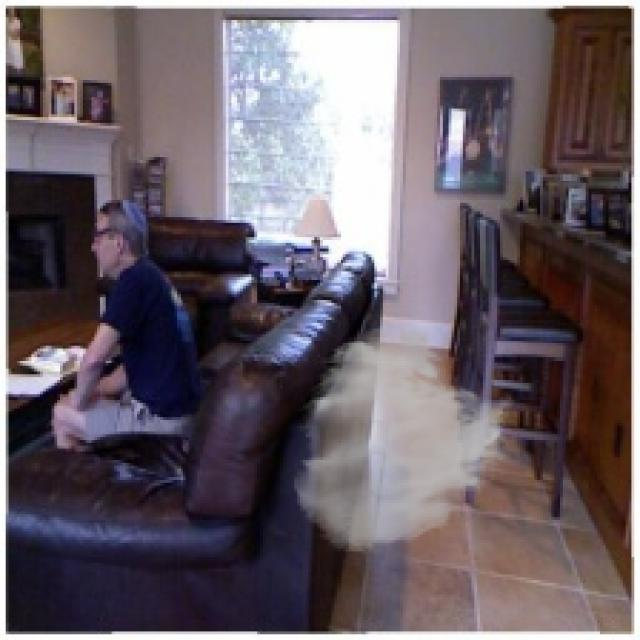smoke: (292, 323, 517, 554)
